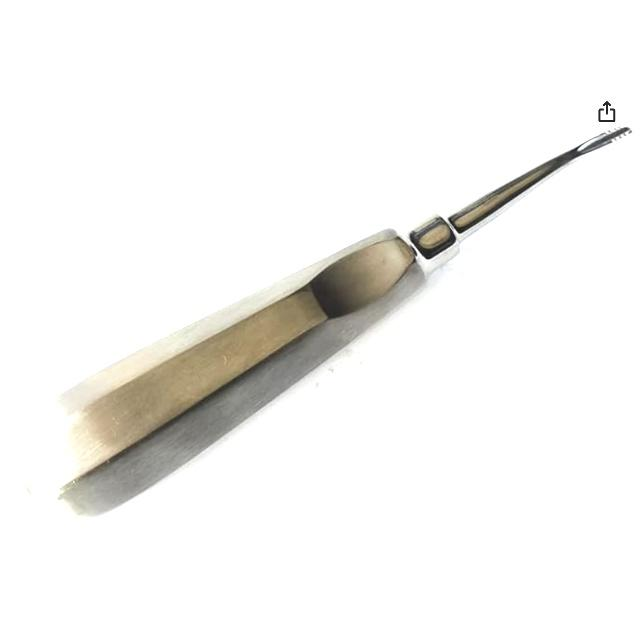botador: (27, 126, 632, 522)
